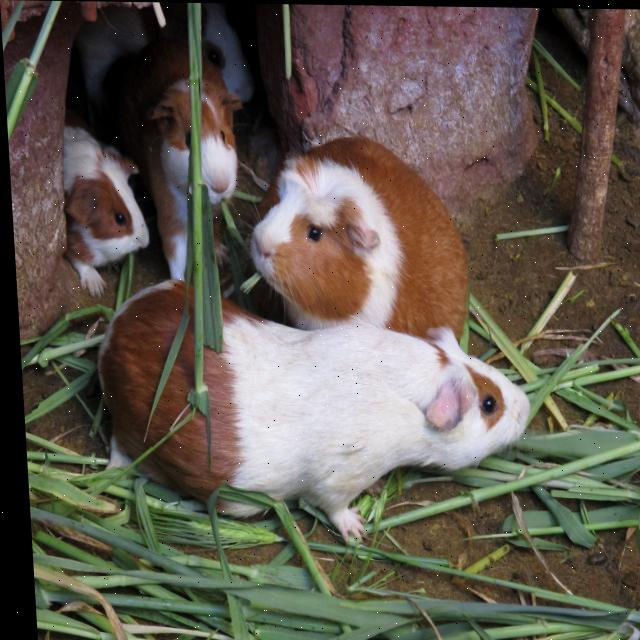guinea pig: (87, 281, 534, 597), (231, 130, 478, 361), (107, 38, 256, 284), (56, 106, 153, 302)
